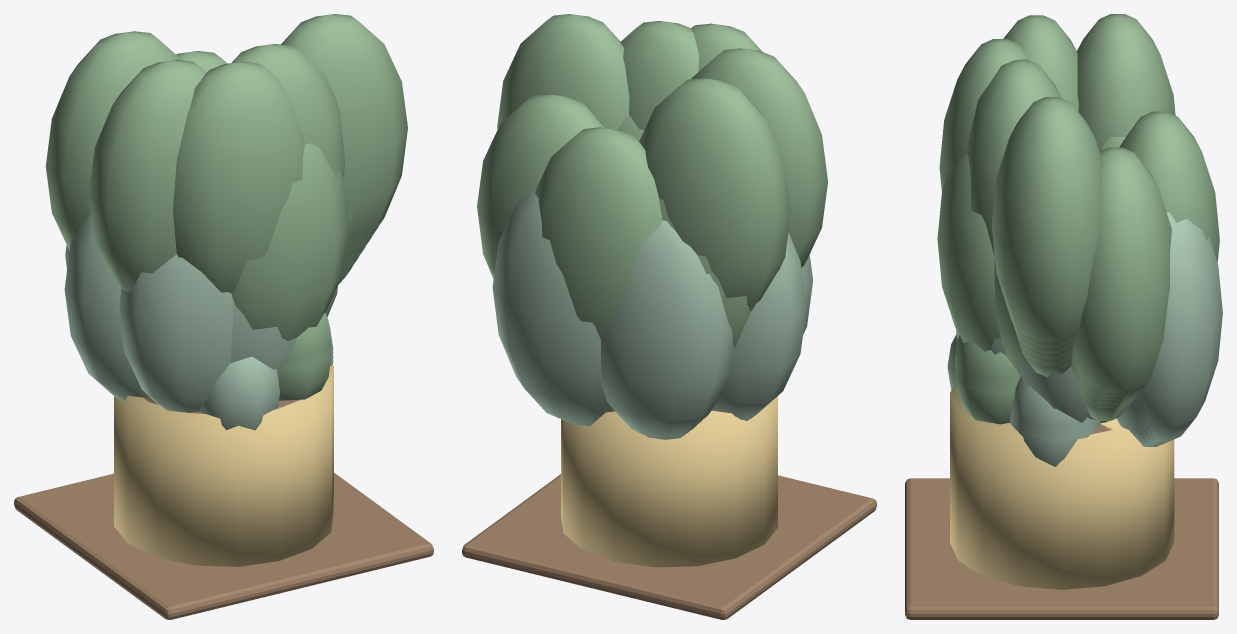
The model's file is Gear08.fbx.
The picture shows the model from 3 angles, left to right: view 1: azimuth 30°, elevation 25°; view 2: azimuth 150°, elevation 25°; view 3: azimuth 270°, elevation 25°; orthographic projection. The views are drawn at different scales.
Parts seen in each view (by area): view 1: Gear08_V10_Leaf, Gear08_V10_Brass, Gear08_V10_Sage, Gear08_V8_Walnut, Gear08_V10_Walnut, Gear08_V4_Sage, Gear08_V1_Leaf, Gear08_V4_Leaf; view 2: Gear08_V10_Leaf, Gear08_V10_Sage, Gear08_V10_Brass, Gear08_V10_Walnut, Gear08_V9_Walnut, Gear08_V8_Walnut; view 3: Gear08_V10_Leaf, Gear08_V10_Brass, Gear08_V10_Walnut, Gear08_V10_Sage, Gear08_V9_Walnut, Gear08_V8_Walnut, Gear08_V4_Sage, Gear08_V1_Leaf, Gear08_V4_Leaf, Gear08_V1_Sage, Gear08_V9_Leaf, Gear08_V8_Leaf (+4 smaller).
Boxes of the visible parts, x1=… form: Gear08_V10_Leaf: x1=45, y1=14, x2=407, y2=340; Gear08_V10_Brass: x1=114, y1=365, x2=333, y2=566; Gear08_V10_Sage: x1=64, y1=214, x2=337, y2=412; Gear08_V8_Walnut: x1=31, y1=478, x2=419, y2=602; Gear08_V10_Walnut: x1=14, y1=473, x2=433, y2=619; Gear08_V4_Sage: x1=199, y1=324, x2=333, y2=430; Gear08_V1_Leaf: x1=278, y1=354, x2=331, y2=400; Gear08_V4_Leaf: x1=288, y1=312, x2=331, y2=358; Gear08_V10_Leaf: x1=477, y1=14, x2=827, y2=348; Gear08_V10_Sage: x1=492, y1=185, x2=812, y2=437; Gear08_V10_Brass: x1=561, y1=396, x2=777, y2=567; Gear08_V10_Walnut: x1=462, y1=474, x2=876, y2=619; Gear08_V9_Walnut: x1=472, y1=479, x2=825, y2=604; Gear08_V8_Walnut: x1=476, y1=481, x2=841, y2=568; Gear08_V10_Leaf: x1=937, y1=14, x2=1219, y2=404; Gear08_V10_Brass: x1=950, y1=386, x2=1174, y2=589; Gear08_V10_Walnut: x1=905, y1=478, x2=1218, y2=619; Gear08_V10_Sage: x1=956, y1=212, x2=1222, y2=441; Gear08_V9_Walnut: x1=913, y1=479, x2=1209, y2=599; Gear08_V8_Walnut: x1=917, y1=481, x2=1207, y2=587; Gear08_V4_Sage: x1=947, y1=334, x2=1091, y2=429; Gear08_V1_Leaf: x1=954, y1=371, x2=1015, y2=424; Gear08_V4_Leaf: x1=954, y1=335, x2=1020, y2=381; Gear08_V1_Sage: x1=1010, y1=419, x2=1100, y2=466; Gear08_V9_Leaf: x1=984, y1=292, x2=1133, y2=407; Gear08_V8_Leaf: x1=987, y1=290, x2=1130, y2=410.
Size of the model in its own units: 19.87 by 30.33 by 17.36.
